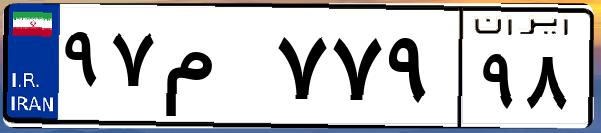7: (270, 28, 330, 110), (330, 28, 385, 110), (110, 28, 158, 98)
8: (525, 38, 570, 115)
9: (385, 28, 445, 110), (57, 26, 110, 100), (475, 38, 525, 113)
م: (158, 20, 270, 120)
